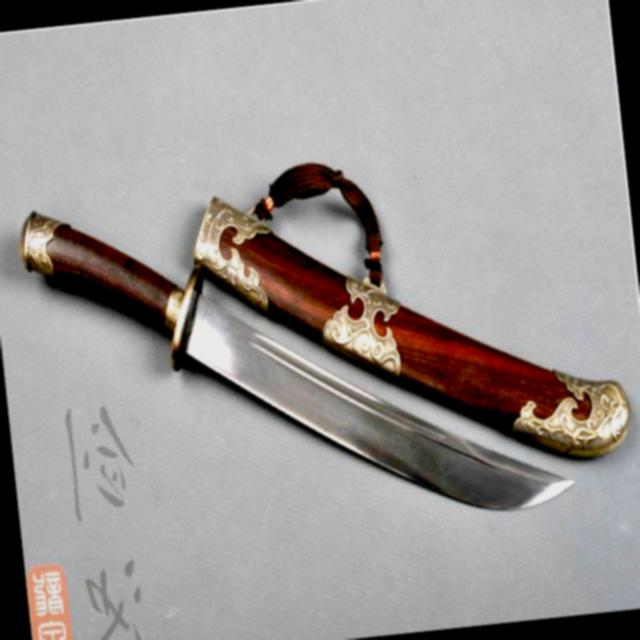short sword: (9, 116, 640, 573)
